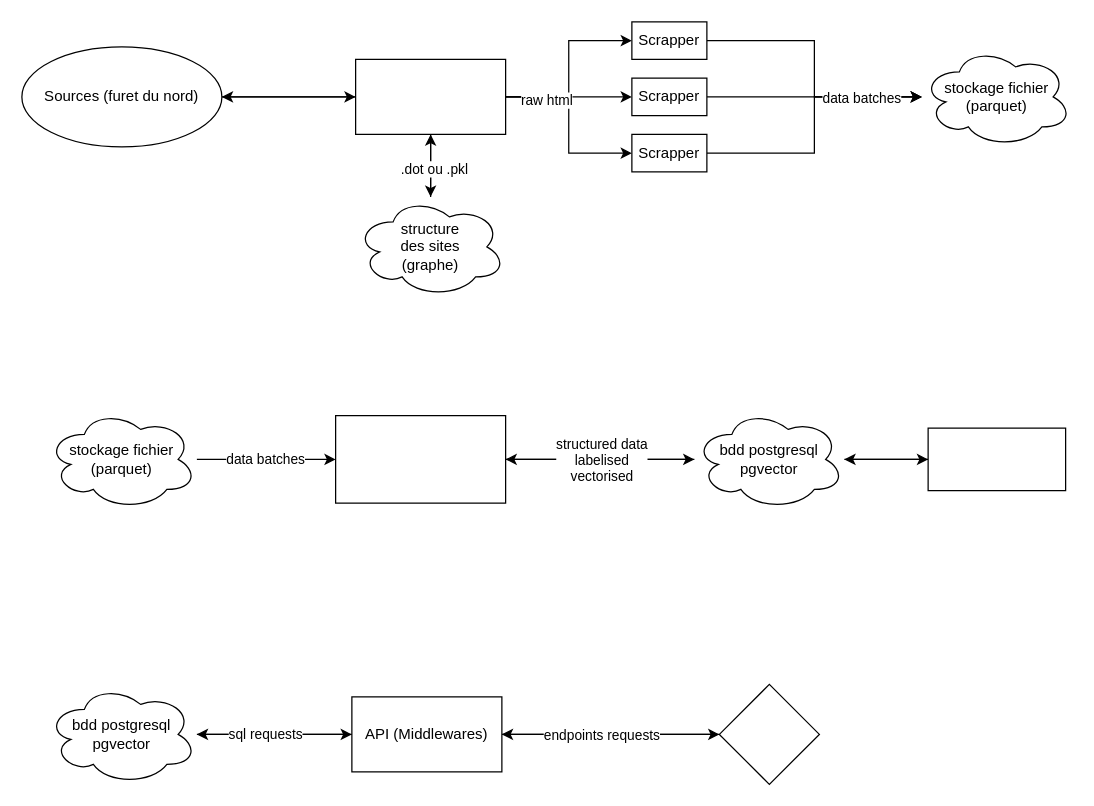
The diagram is 1094 pixels wide and 806 high, and some of its shapes have lost their labels. The centre of each missing label's shape, as x and y in pixels:
"App" goes at [768,733].
"Crawler" goes at [430,96].
"microservice vectorisation" goes at [996,459].
"Python (pyspark) labellisation (clustering)" goes at [420,458].
